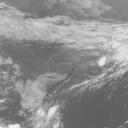cyclone: (27, 19, 108, 90)
